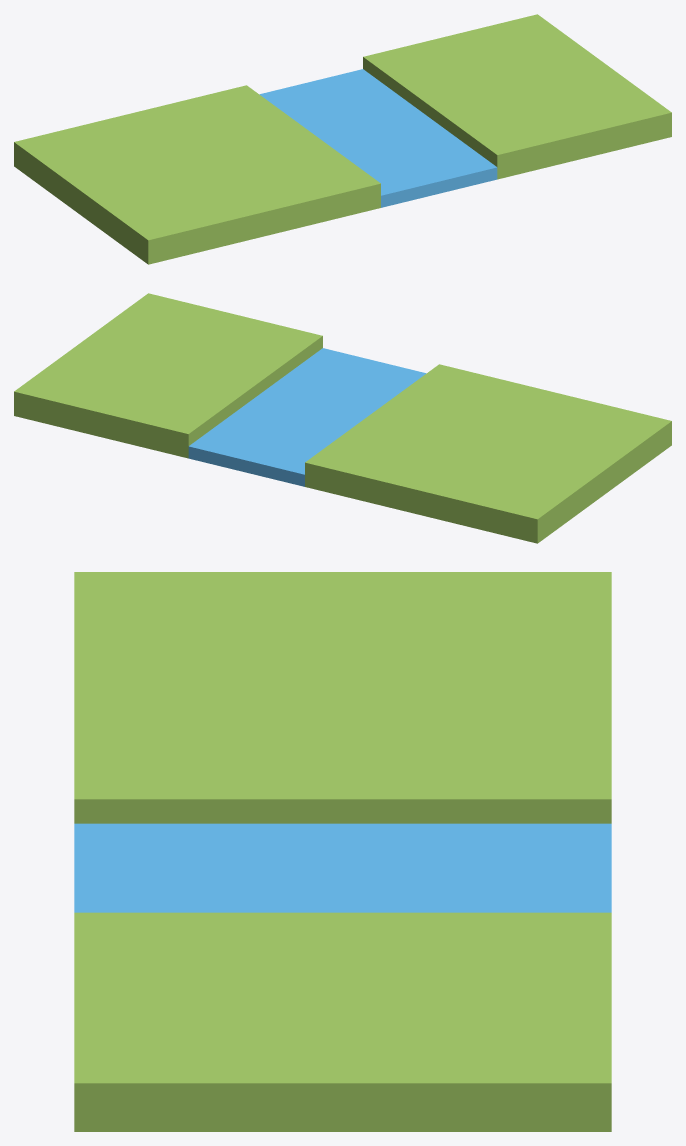
3 renders of one model, top to bottom at view 1: azimuth 30°, elevation 25°; view 2: azimuth 150°, elevation 25°; view 3: azimuth 270°, elevation 25°, orthographic. The views are drawn at different scales.
Parts seen in each view (by area): view 1: Cube; view 2: Cube; view 3: Cube.
Boxes of the visible parts, <box> form: Cube: <box>14,14,671,264</box>; Cube: <box>14,293,671,543</box>; Cube: <box>74,572,611,1131</box>.
Bounding box in the file's own units: 9 × 0.4 × 4.
